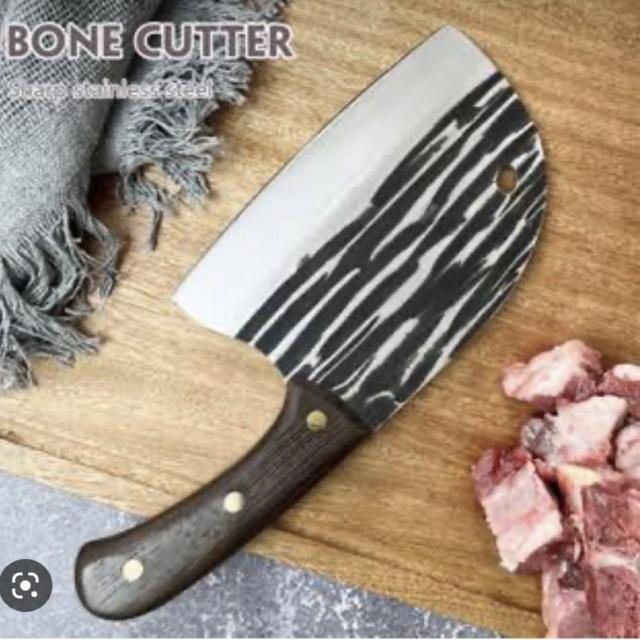Knife: (49, 8, 623, 640)
